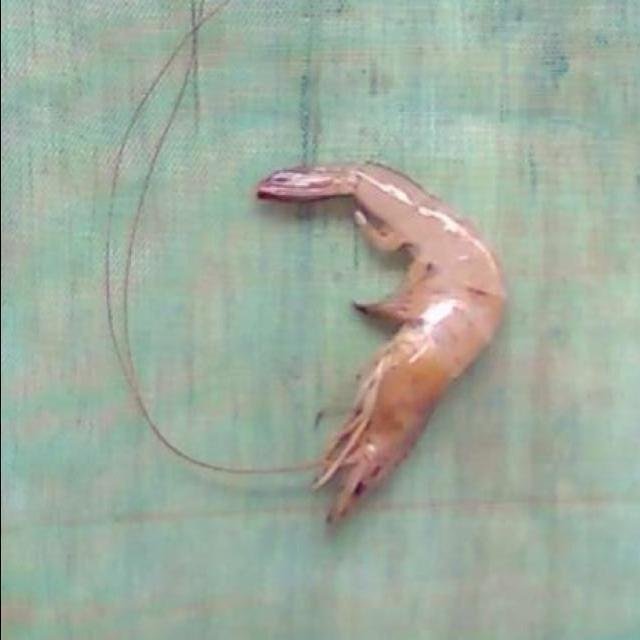shrimp: (256, 164, 505, 524)
